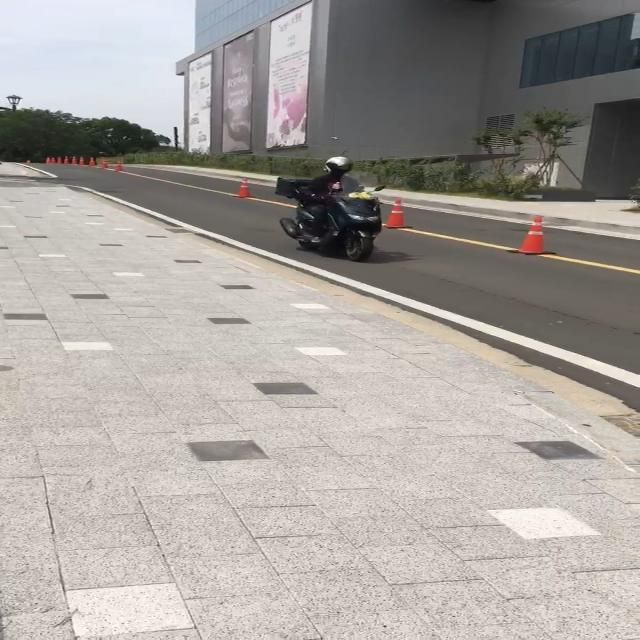obstacle: (258, 148, 396, 270), (499, 210, 570, 262), (385, 192, 413, 228), (228, 176, 261, 202)
road: (37, 163, 640, 435)
sidewalk: (0, 184, 640, 640), (409, 194, 640, 235), (0, 158, 58, 181)
